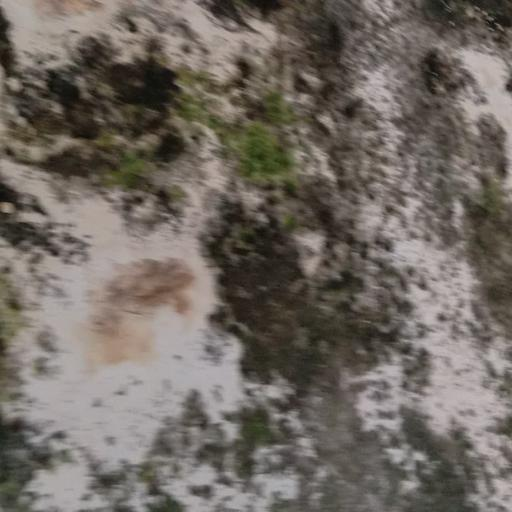algae: (7, 31, 488, 512)
